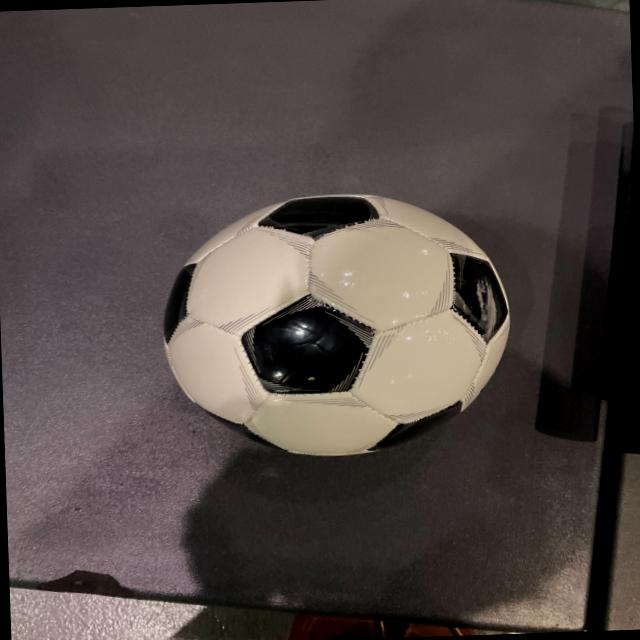Soccer Ball: (154, 190, 506, 464)
